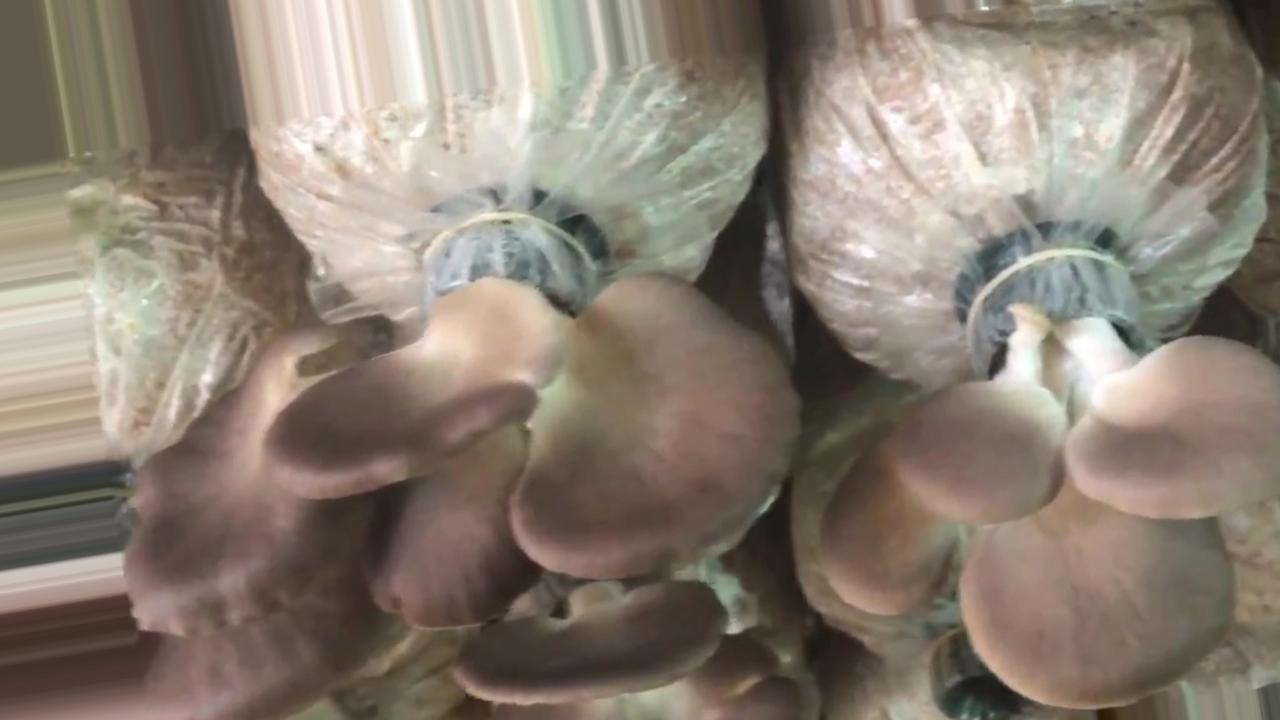nam: (124, 217, 800, 703), (817, 254, 1280, 703)
